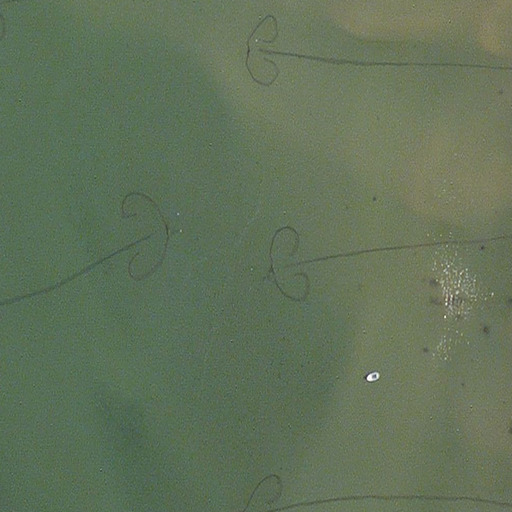ship: (364, 371, 382, 384)
